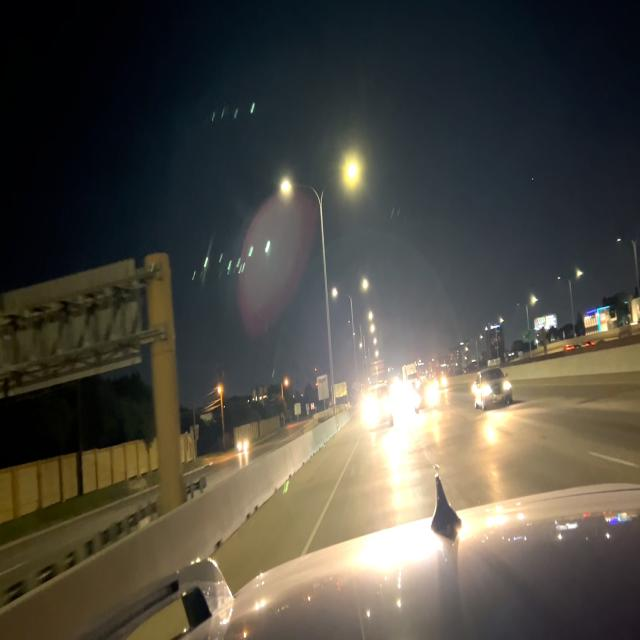back-of-sign: (0, 254, 141, 396), (317, 371, 329, 405), (333, 381, 348, 401)
